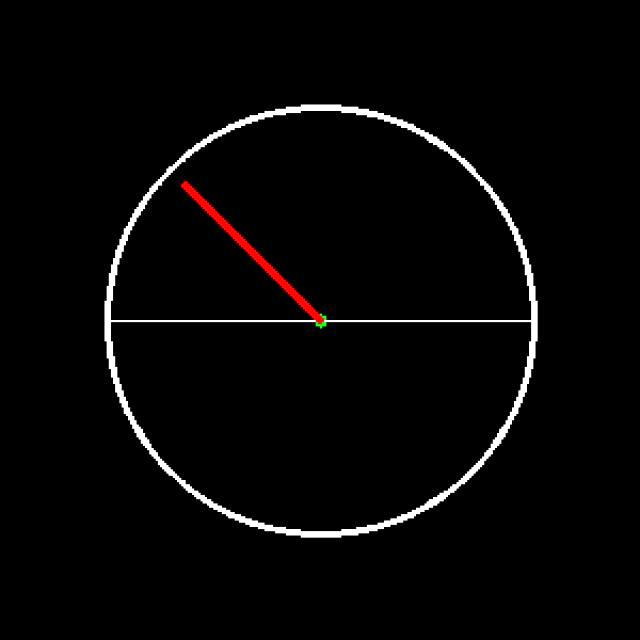Needle_Tip: (168, 162, 209, 208)
Needle_base: (285, 299, 358, 361)
